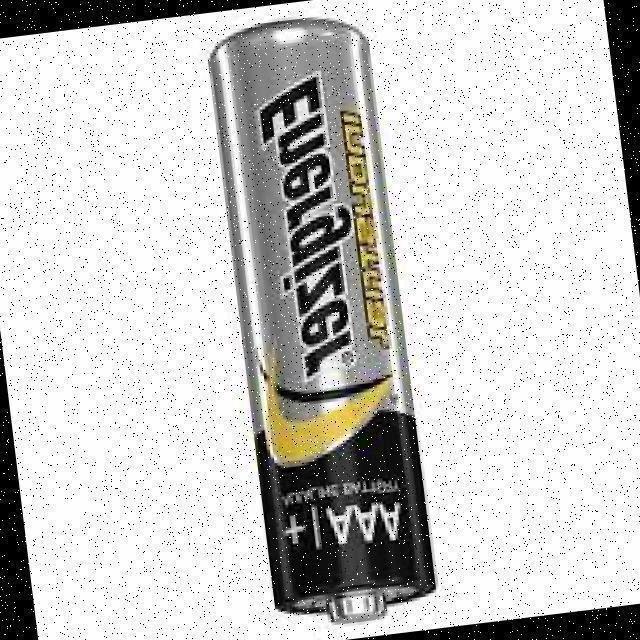AA: (204, 16, 443, 630)
